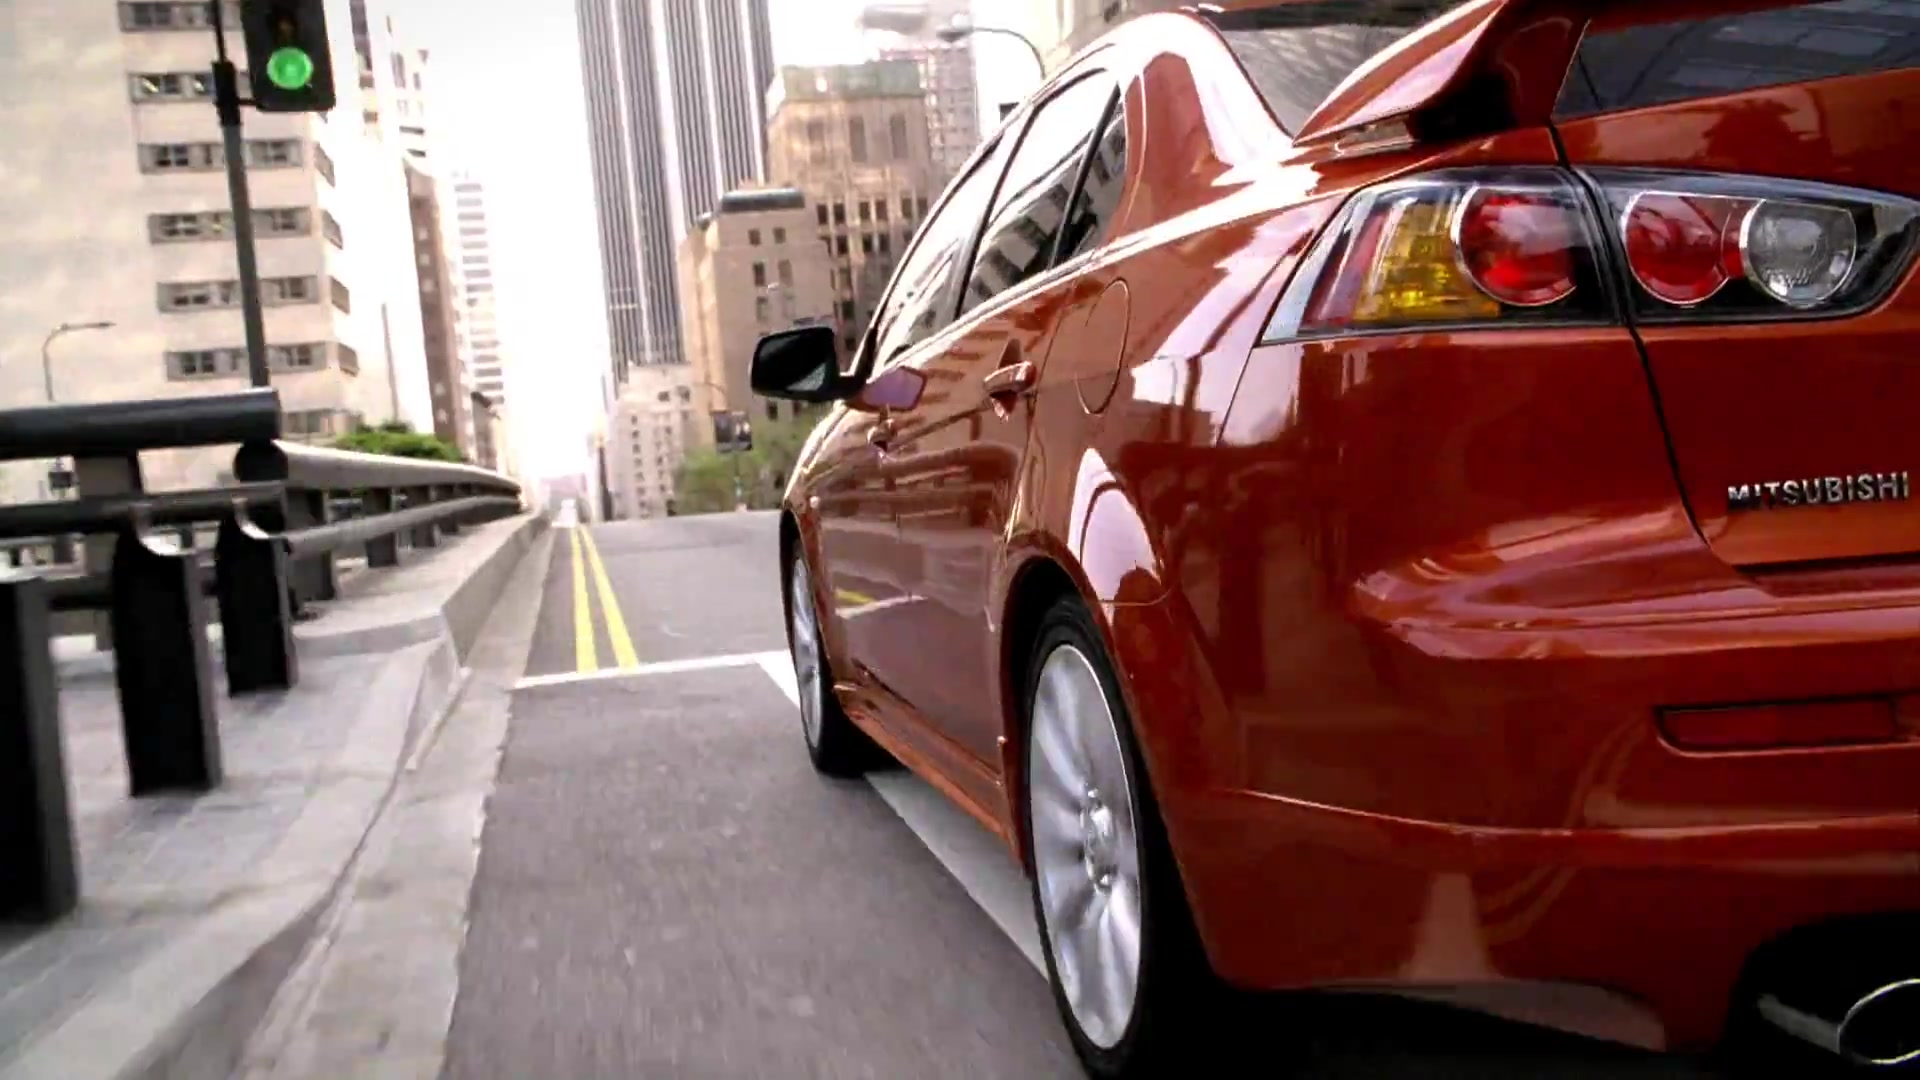car: (738, 3, 1920, 1079)
